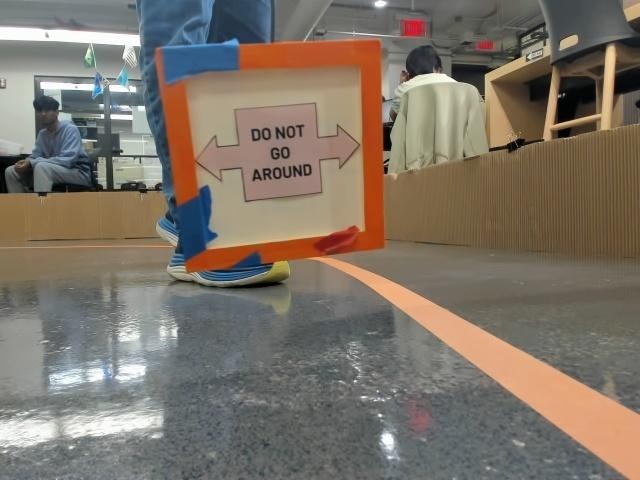Do Not Go Around: (191, 113, 355, 204)
